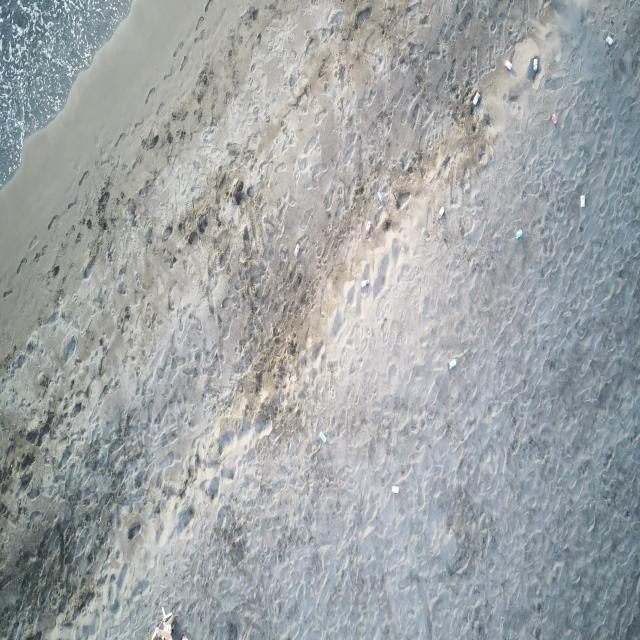Garbage: (151, 607, 172, 639), (151, 624, 172, 639), (527, 55, 539, 79), (232, 181, 243, 204), (395, 192, 408, 207), (161, 607, 172, 620), (472, 91, 480, 105), (364, 220, 372, 233), (504, 59, 512, 71), (604, 33, 612, 45), (437, 206, 444, 219), (515, 228, 523, 239), (319, 431, 326, 443), (532, 56, 537, 71), (377, 191, 383, 203), (293, 244, 299, 256), (448, 358, 455, 368), (550, 112, 556, 123), (360, 279, 368, 287), (580, 193, 584, 207), (392, 484, 399, 492), (180, 632, 187, 639)
